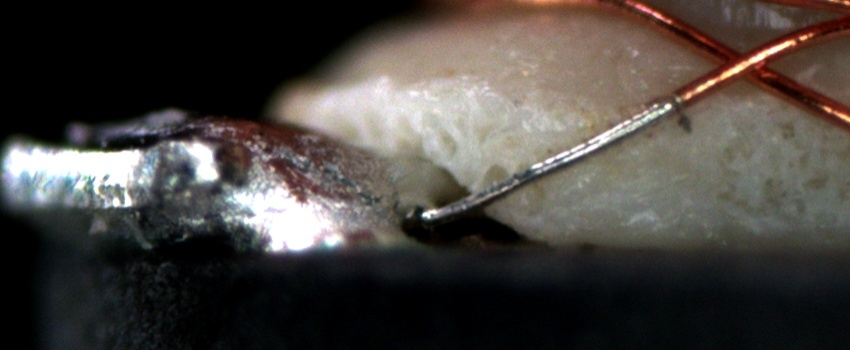CL: (696, 33, 792, 91)
DL: (534, 94, 724, 138)
TS: (419, 96, 679, 222)
